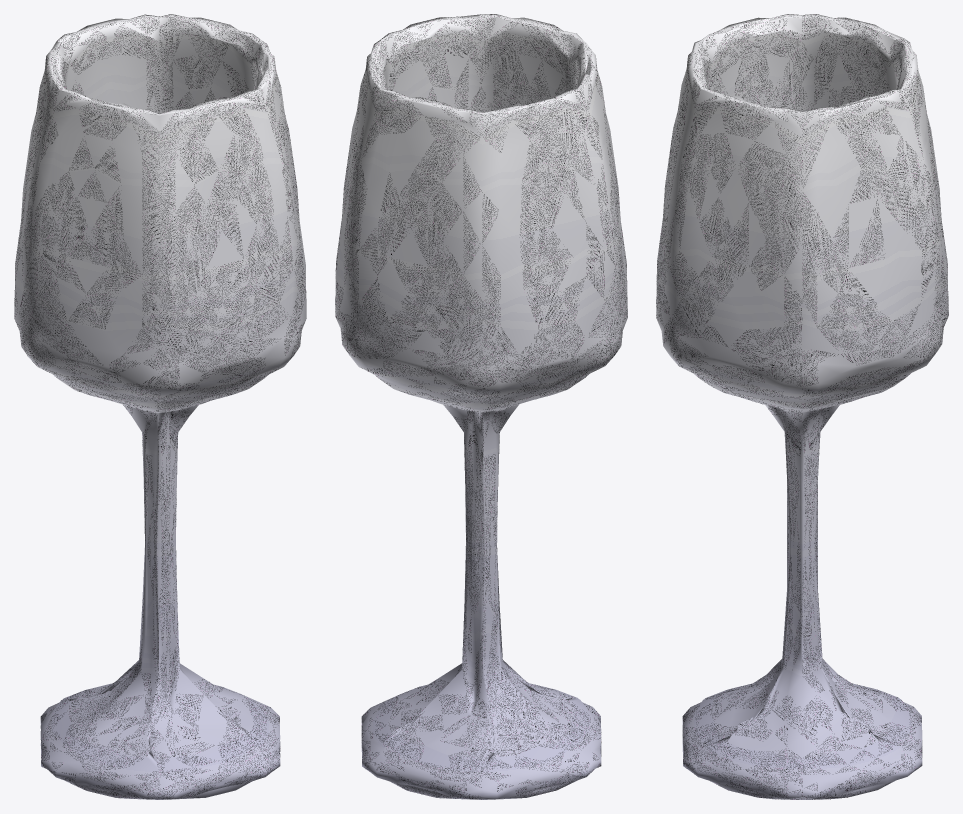
The picture shows the model from 3 angles, left to right: view 1: azimuth 30°, elevation 25°; view 2: azimuth 150°, elevation 25°; view 3: azimuth 270°, elevation 25°; orthographic projection.
Size of the model in its own units: 0.4092 by 1 by 0.3843.
Materials: 1 (1 with a texture image).
